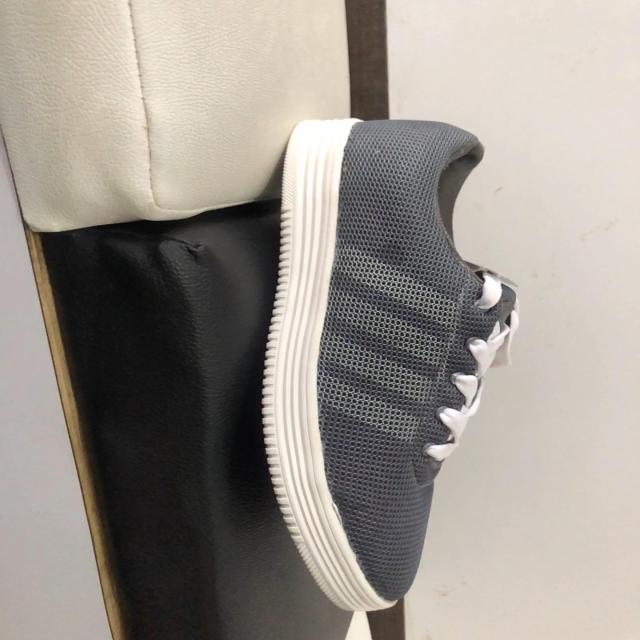shoe: (262, 119, 520, 640)
